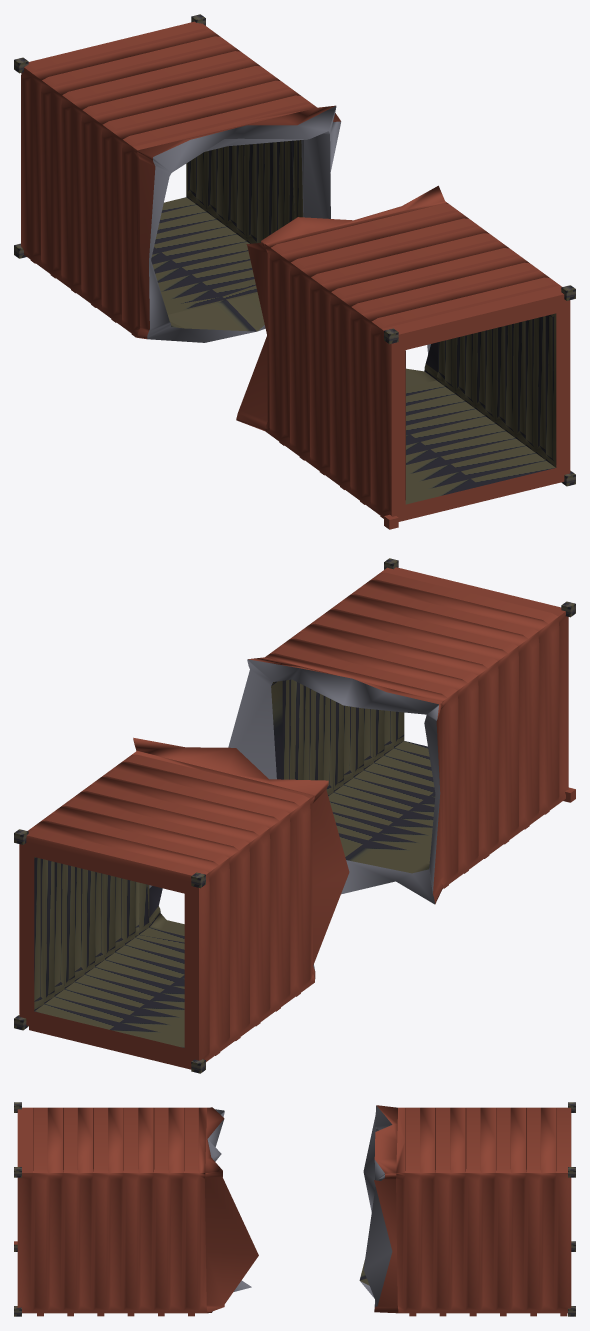
File: mdlBrokenShippingContainer.fbx
The picture shows the model from 3 angles, top to bottom: view 1: azimuth 30°, elevation 25°; view 2: azimuth 150°, elevation 25°; view 3: azimuth 270°, elevation 25°; orthographic projection. The views are drawn at different scales.
Parts seen in each view (by area): view 1: HumanShippingContainerMesh, HumanShippingContainerMesh.001; view 2: HumanShippingContainerMesh.001, HumanShippingContainerMesh; view 3: HumanShippingContainerMesh, HumanShippingContainerMesh.001.
Part boxes in pixels (box(x1,y1,x2,y2)): HumanShippingContainerMesh: box(236, 185, 575, 529); HumanShippingContainerMesh.001: box(14, 14, 341, 342); HumanShippingContainerMesh.001: box(14, 737, 349, 1073); HumanShippingContainerMesh: box(228, 558, 575, 904); HumanShippingContainerMesh: box(14, 1102, 258, 1316); HumanShippingContainerMesh.001: box(359, 1102, 575, 1316).
Size of the model in its own units: 17.08 by 16.96 by 55.04.
Materials: 1 (1 with a texture image).
